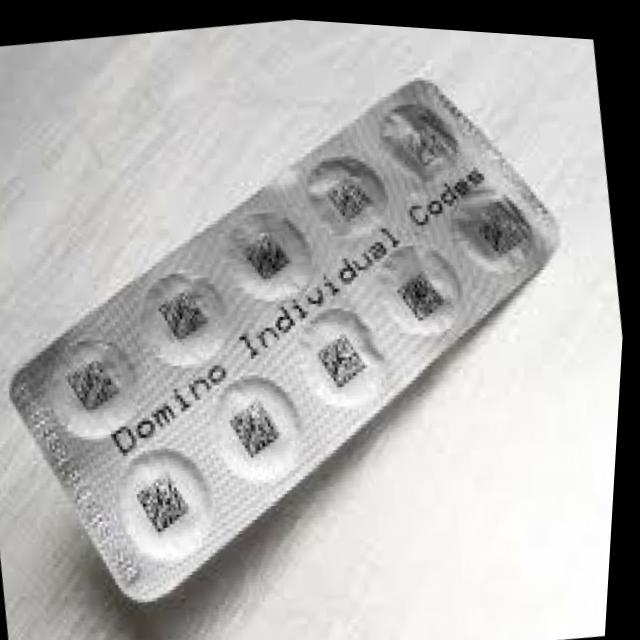datamatrix: (57, 337, 136, 425), (147, 268, 226, 356), (231, 207, 310, 295), (312, 146, 391, 234), (391, 91, 470, 179), (459, 183, 538, 271), (385, 240, 464, 328), (307, 308, 386, 396), (222, 376, 301, 464), (130, 451, 209, 539)
